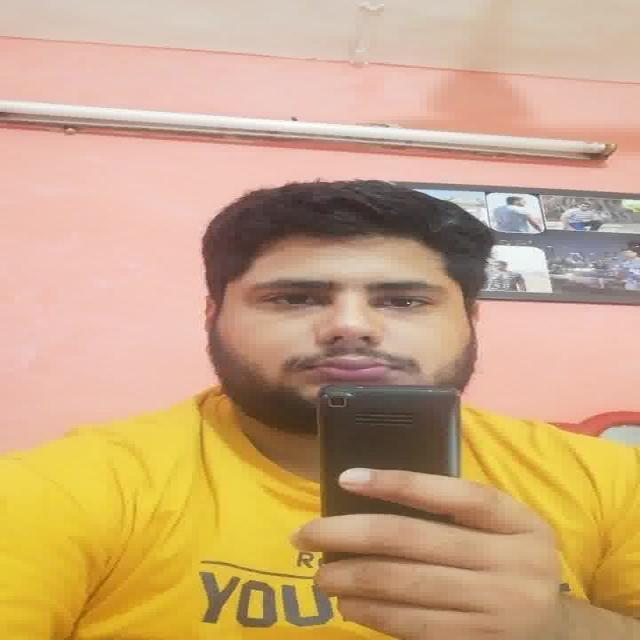Phone: (316, 382, 464, 522)
